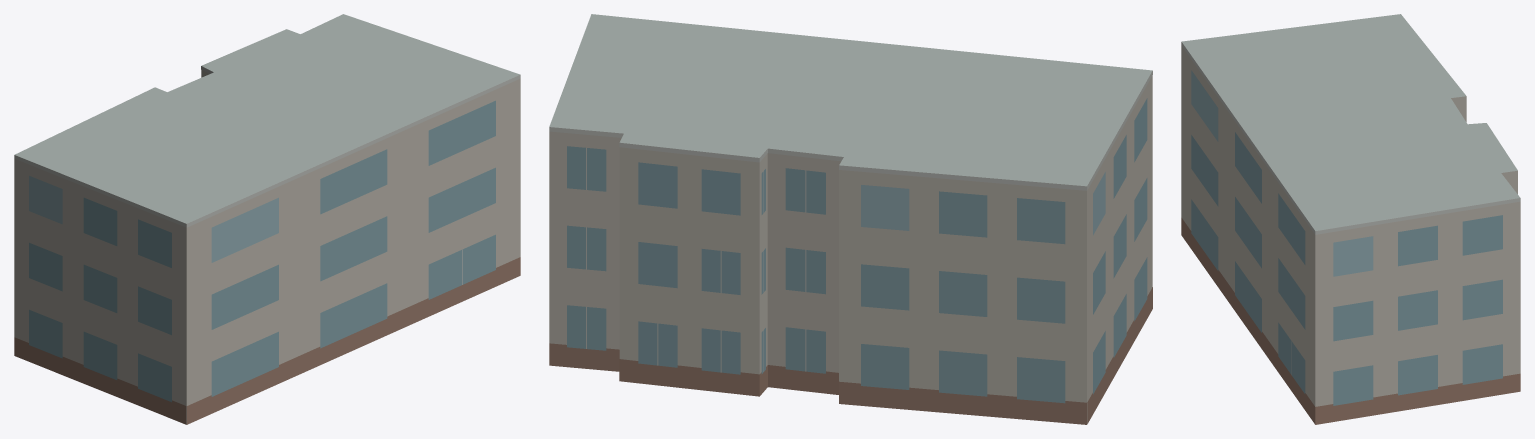
The model's file is survey-upis-32862333.glb.
3 renders of one model, left to right at view 1: azimuth 30°, elevation 25°; view 2: azimuth 150°, elevation 25°; view 3: azimuth 270°, elevation 25°, orthographic. The views are drawn at different scales.
Visible parts, largest first — view 1: survey-upis-32862333.tmp; view 2: survey-upis-32862333.tmp; view 3: survey-upis-32862333.tmp.
Boxes of the visible parts, box(x1,y1,x2,y2) form: survey-upis-32862333.tmp: box(14, 14, 520, 424); survey-upis-32862333.tmp: box(549, 14, 1152, 424); survey-upis-32862333.tmp: box(1181, 14, 1520, 424).
Bounding box in the file's own units: 30.92 × 12.85 × 20.4.
